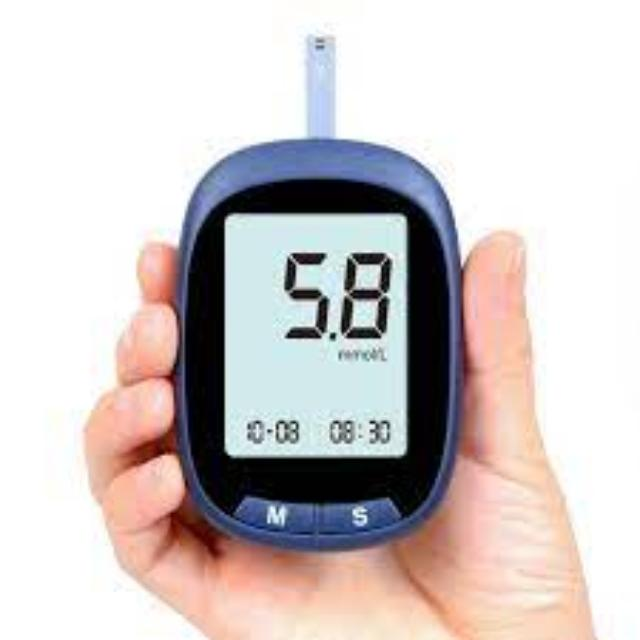Glucose-Meter: (179, 36, 460, 548)
